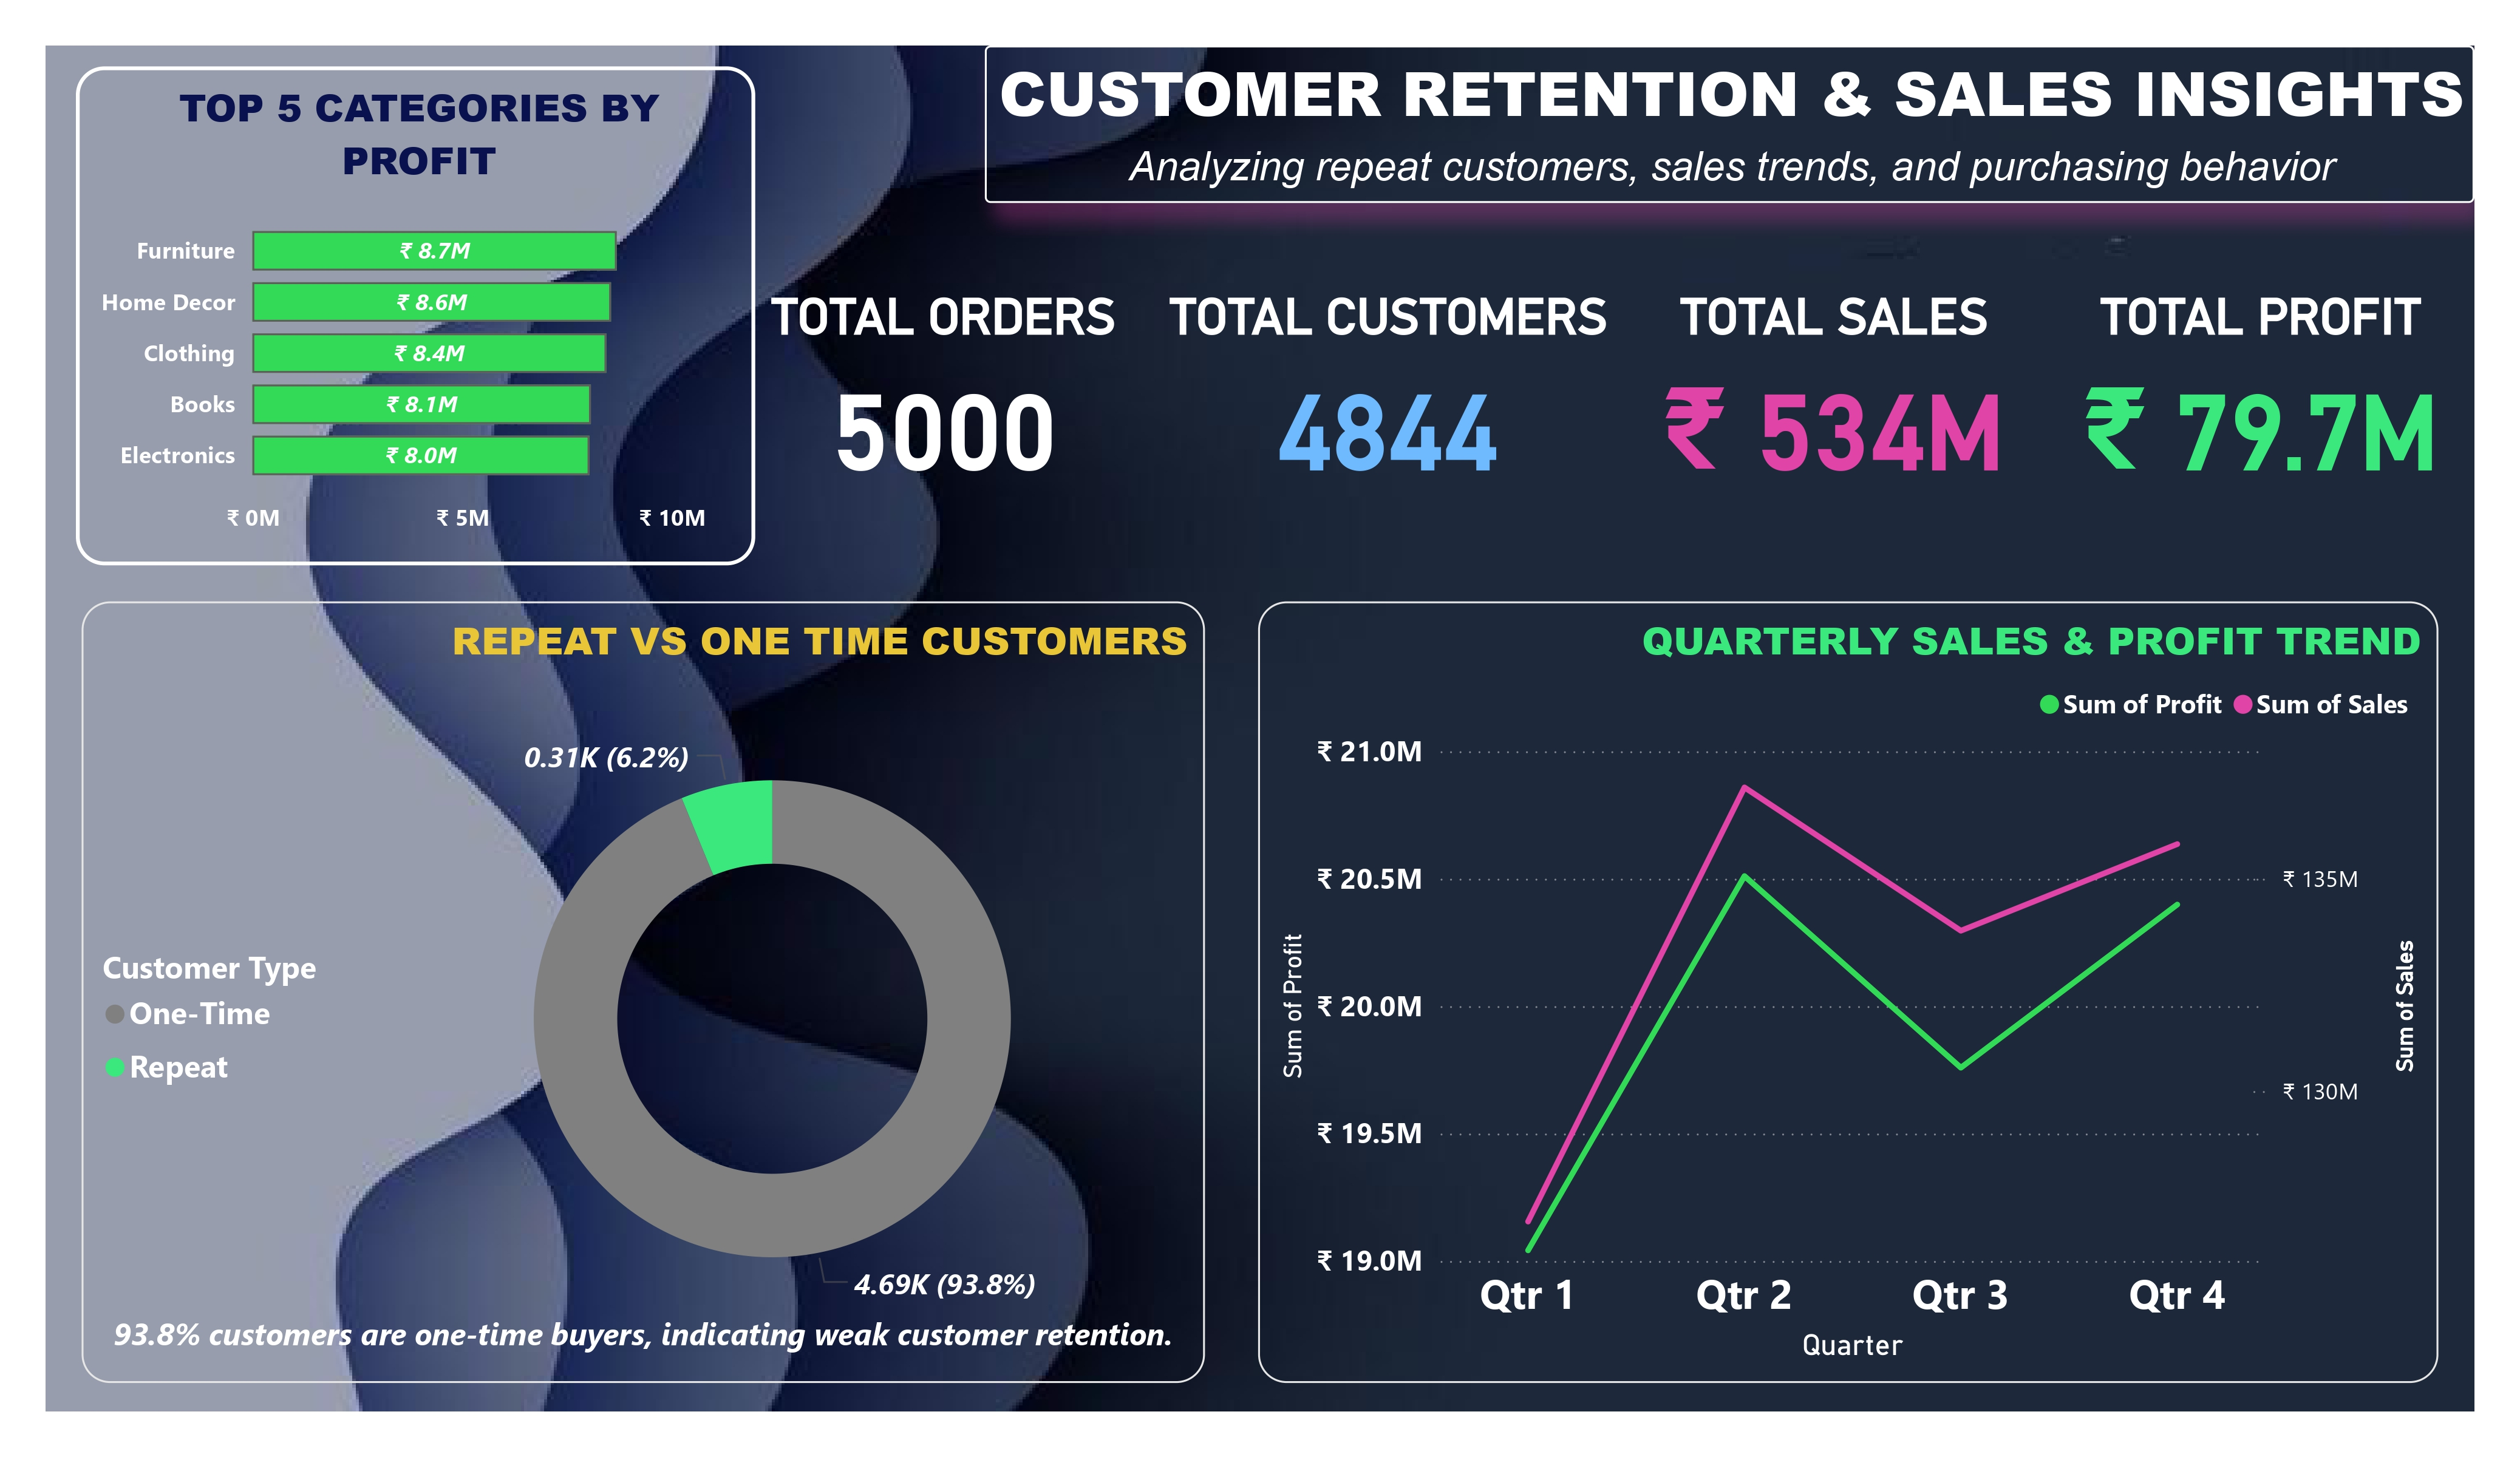

Layout of this report page (visuals, bound fields, positions):
{"tool":"powerbi","page":{"name":"Page 1","canvas":[1280,720],"ordinal":0},"visuals":[{"type":"textbox","title":"CUSTOMER RETENTION & SALES INSIGHTS","box":[494.7,0,785.8,82.7],"z":0},{"type":"card","title":"TOTAL SALES","fields":{"Values":["Sum(Ecommerce_Sales_Data_2024_2025.Sales)"]},"box":[830.3,127.2,224.3,109.8],"z":1000},{"type":"card","title":"TOTAL PROFIT","fields":{"Values":["Sum(Ecommerce_Sales_Data_2024_2025.Profit)"]},"box":[1054.6,127.2,225.9,109.8],"z":2000},{"type":"card","title":"TOTAL ORDERS","fields":{"Values":["CountNonNull(Ecommerce_Sales_Data_2024_2025.Order ID)"]},"box":[361.1,127.2,224.3,109.8],"z":3000},{"type":"card","title":"TOTAL CUSTOMERS","fields":{"Values":["Count(Ecommerce_Sales_Data_2024_2025.Customer Name)"]},"box":[585.3,127.2,245,109.8],"z":4000},{"type":"lineChart","title":"QUARTERLY SALES & PROFIT TREND","fields":{"Category":["Ecommerce_Sales_Data_2024_2025.Order Date.Variation.Date Hierarchy.Quarter"],"Y":["Sum(Ecommerce_Sales_Data_2024_2025.Profit)"],"Y2":["Sum(Ecommerce_Sales_Data_2024_2025.Sales)"]},"box":[639.4,292.7,621.9,412],"z":5000},{"type":"donutChart","title":"REPEAT VS ONE TIME CUSTOMERS","fields":{"Category":["Ecommerce_Sales_Data_2024_2025.Customer_Type"],"Y":["CountNonNull(Ecommerce_Sales_Data_2024_2025.Customer Name)"]},"box":[19.1,292.7,591.7,412],"z":6000},{"type":"textbox","box":[19.1,663.3,591.7,57.3],"z":7000},{"type":"clusteredBarChart","title":"TOP 5 CATEGORIES BY PROFIT","fields":{"Category":["Ecommerce_Sales_Data_2024_2025.Category"],"Y":["Sum(Ecommerce_Sales_Data_2024_2025.Profit)"]},"box":[15.9,11.1,357.9,262.5],"z":8000}]}

Visuals, with their boxes in screenshot pixels (x1, y1, x2, y2):
"CUSTOMER RETENTION & SALES INSIGHTS" textbox: {"left": 984, "top": 46, "right": 2474, "bottom": 202}
"TOTAL SALES" card: {"left": 1621, "top": 287, "right": 2047, "bottom": 495}
"TOTAL PROFIT" card: {"left": 2047, "top": 287, "right": 2474, "bottom": 495}
"TOTAL ORDERS" card: {"left": 730, "top": 287, "right": 1156, "bottom": 495}
"TOTAL CUSTOMERS" card: {"left": 1156, "top": 287, "right": 1621, "bottom": 495}
"QUARTERLY SALES & PROFIT TREND" lineChart: {"left": 1259, "top": 601, "right": 2439, "bottom": 1382}
"REPEAT VS ONE TIME CUSTOMERS" donutChart: {"left": 82, "top": 601, "right": 1205, "bottom": 1382}
textbox: {"left": 82, "top": 1304, "right": 1205, "bottom": 1411}
"TOP 5 CATEGORIES BY PROFIT" clusteredBarChart: {"left": 76, "top": 67, "right": 755, "bottom": 565}
